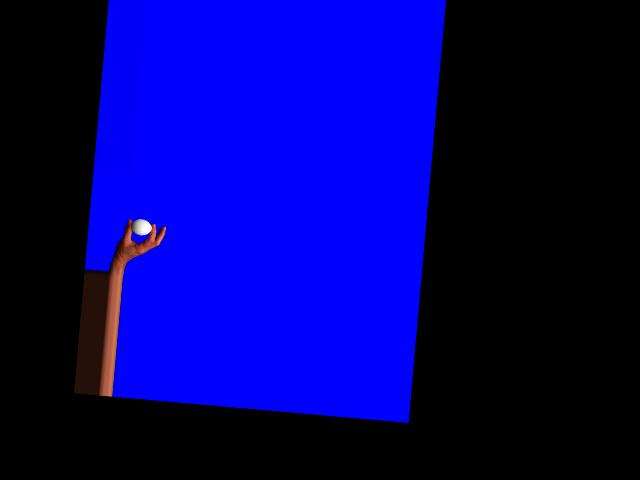egg: (130, 218, 152, 236)
